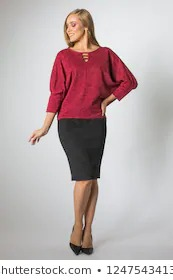C_blouse: (41, 47, 137, 119)
